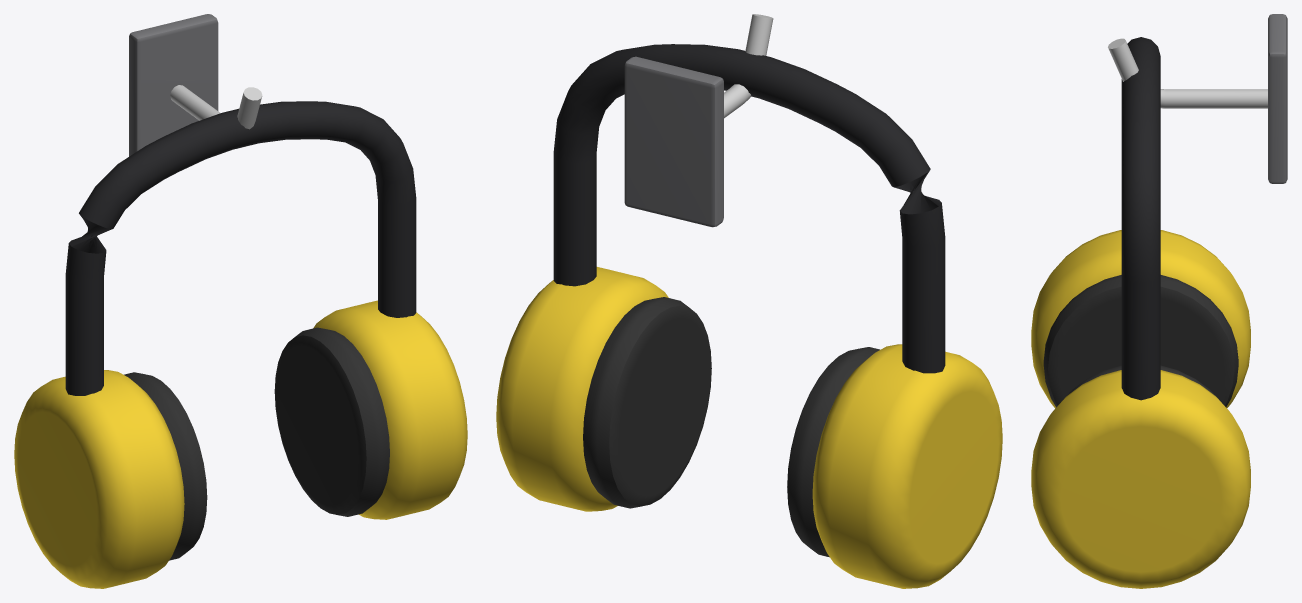
The model's file is ear_defenders.glb.
The picture shows the model from 3 angles, left to right: view 1: azimuth 30°, elevation 25°; view 2: azimuth 150°, elevation 25°; view 3: azimuth 270°, elevation 25°; orthographic projection. The views are drawn at different scales.
Parts seen in each view (by area): view 1: SM_ear_defenders; view 2: SM_ear_defenders; view 3: SM_ear_defenders.
Boxes of the visible parts, bbox=[...] form: SM_ear_defenders: bbox=[14, 14, 467, 588]; SM_ear_defenders: bbox=[496, 14, 1002, 588]; SM_ear_defenders: bbox=[1031, 14, 1287, 588].
Size of the model in its own units: 0.176 by 0.215 by 0.105.
